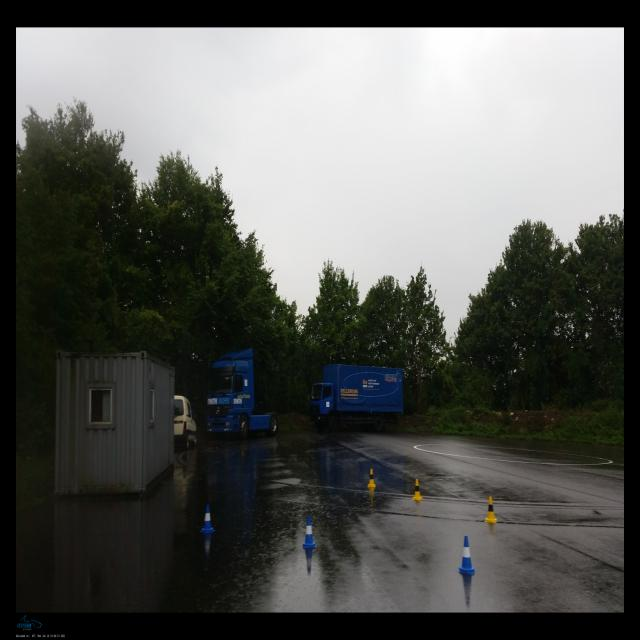blue_cone: (457, 536, 476, 574), (303, 516, 317, 548), (200, 505, 215, 533)
yellow_cone: (484, 497, 498, 522), (412, 480, 423, 500), (367, 469, 376, 487)
